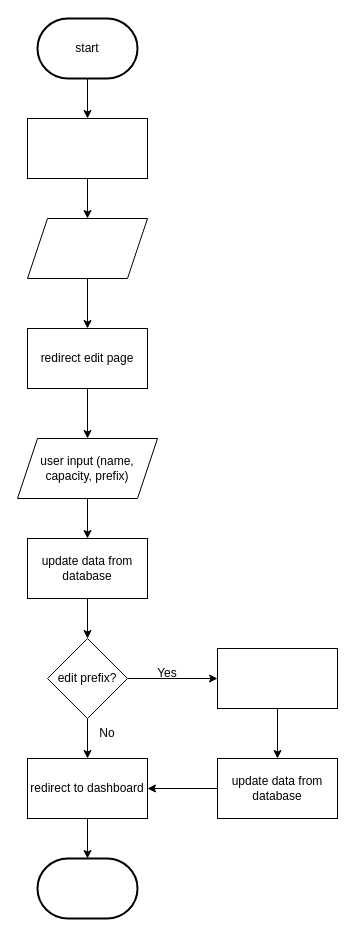
This 355x936 diagram has some shape labels left out. Each missing label, with the centre of its shape:
end: the point at 87,888
generate parking spot format: {prefix}{number} example: P0001: the point at 277,678
show data: the point at 87,148
user choose data: the point at 87,248
